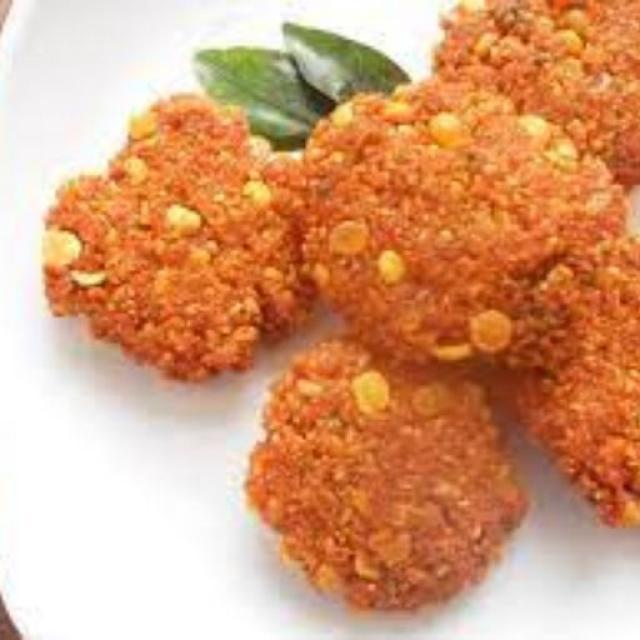dhal wade: (313, 80, 622, 378), (274, 353, 510, 605), (80, 107, 273, 377)
